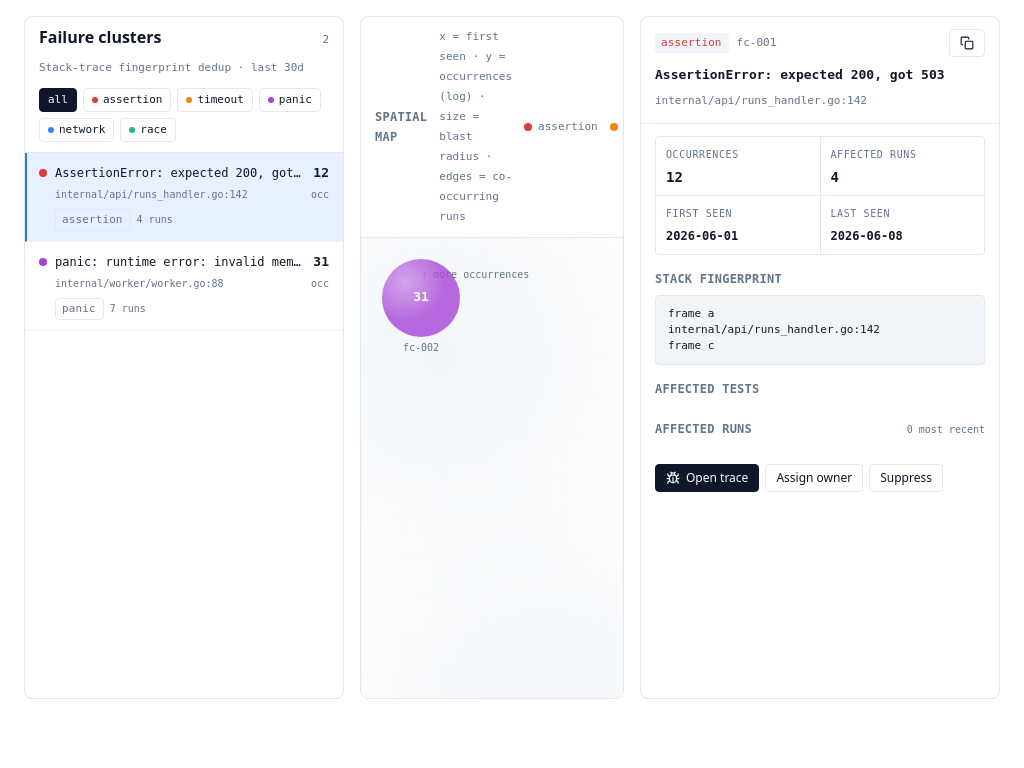
<ClustersScreen /> › updates the detail panel when a different row is clicked
The image size is (1024, 768).
Expected: the element with class "cluster-detail" is shown, [640, 16, 1000, 699]
Expected: the 1st text "AssertionError: expected 200, got 503" is shown, [655, 65, 985, 85]
Click the text "panic: runtime error: invalid memory address".
click(184, 286)  # box [25, 242, 343, 331]
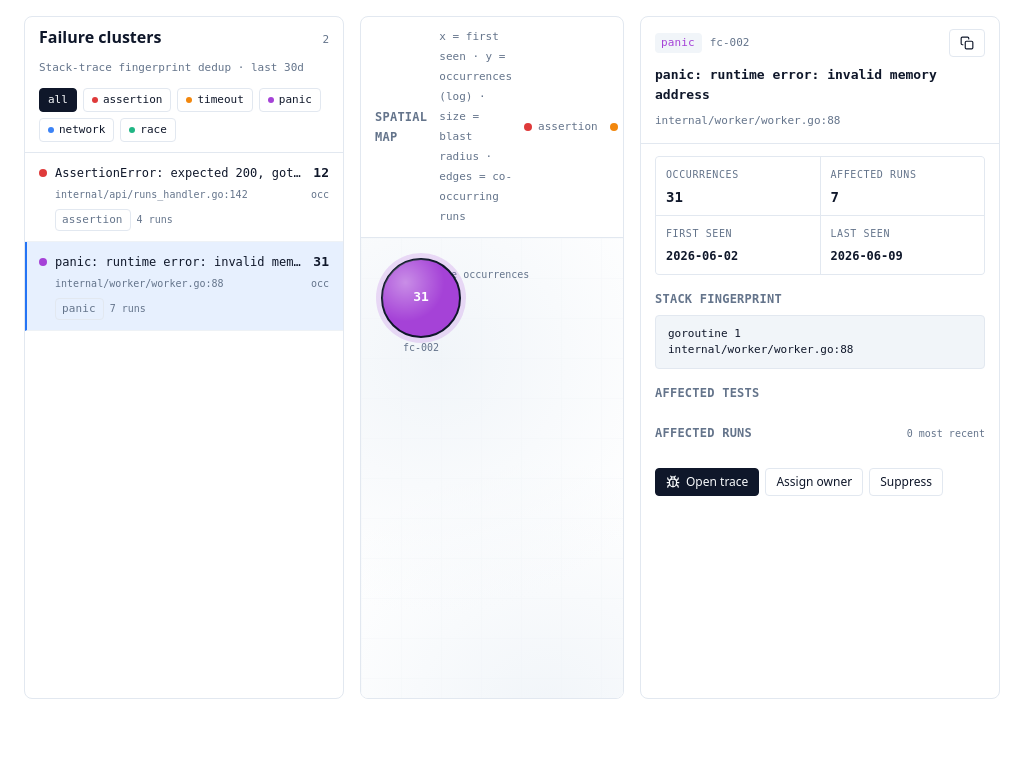
Result: the 1st text "panic: runtime error: invalid memory address" is shown at [655, 65, 985, 105]
